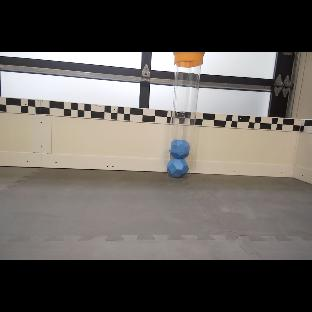V5_BLUE: (167, 140, 190, 177)
